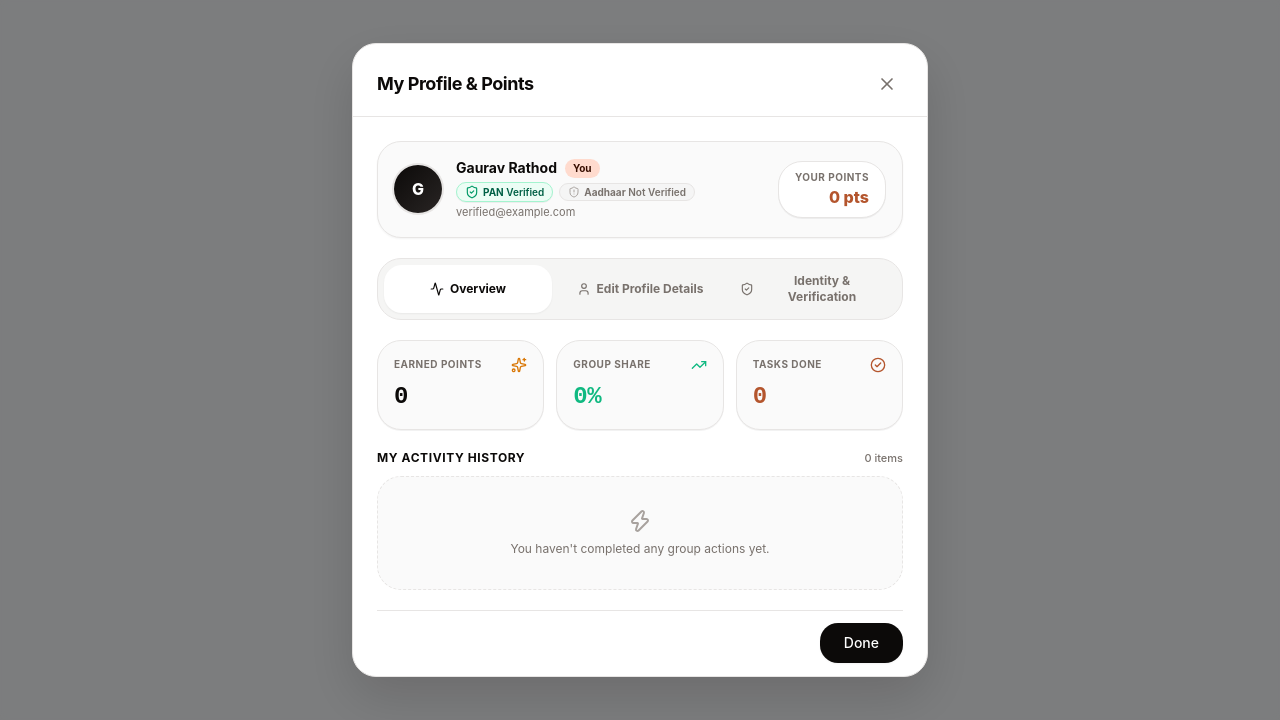
Scenario: PAN Verification Frontend Flow › renders verified PAN state in ProfileModal with masked PAN and registered name
Click the button "Edit Profile Details" at coordinates (640, 289), box [556,265,724,313]
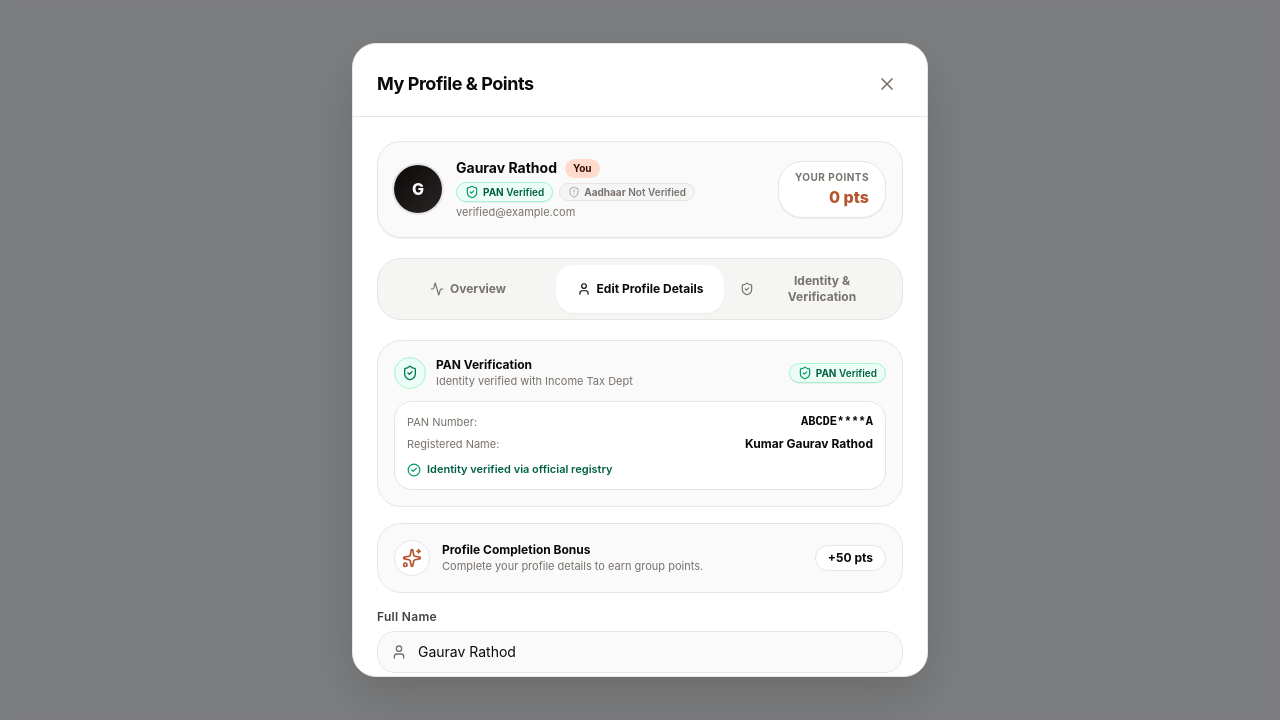
expect the text "Identity verified via official registry" is shown: met, box [427,462,612,477]
expect the text "ABCDE****A" is shown: met, box [801,414,873,430]
expect the text "Kumar Gaurav Rathod" is shown: met, box [745,436,873,452]
